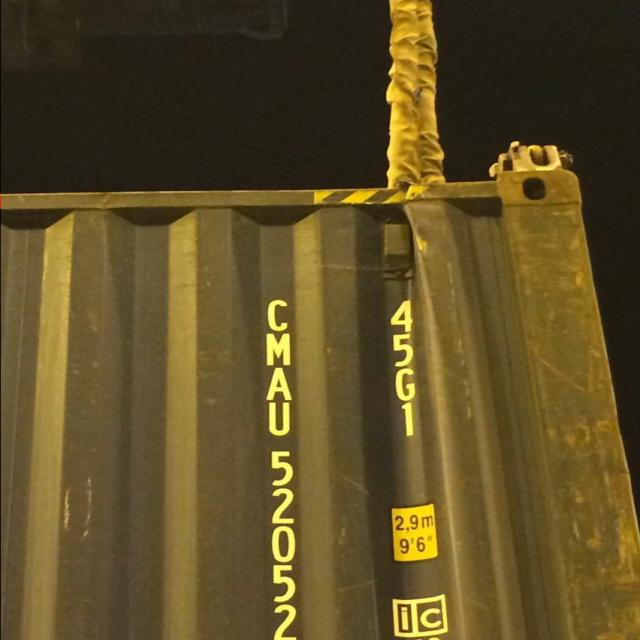rust: (500, 171, 640, 640)
